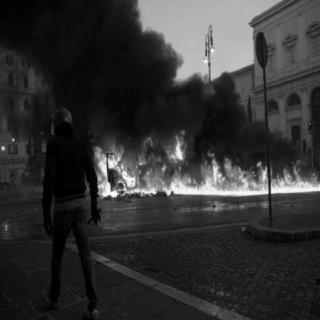Fire: (90, 132, 318, 200)
Smoke: (32, 4, 216, 124)
